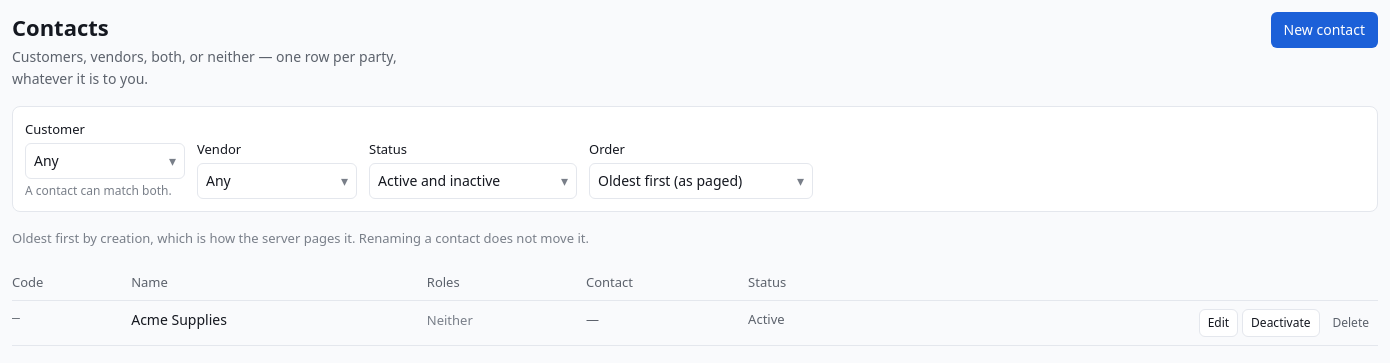
Test: ContactsScreen › deactivates from the list and reactivates the same row
Click the button with aria-label "Deactivate Acme Supplies".
click(1281, 323)  # box x1=1242 y1=309 x2=1320 y2=337
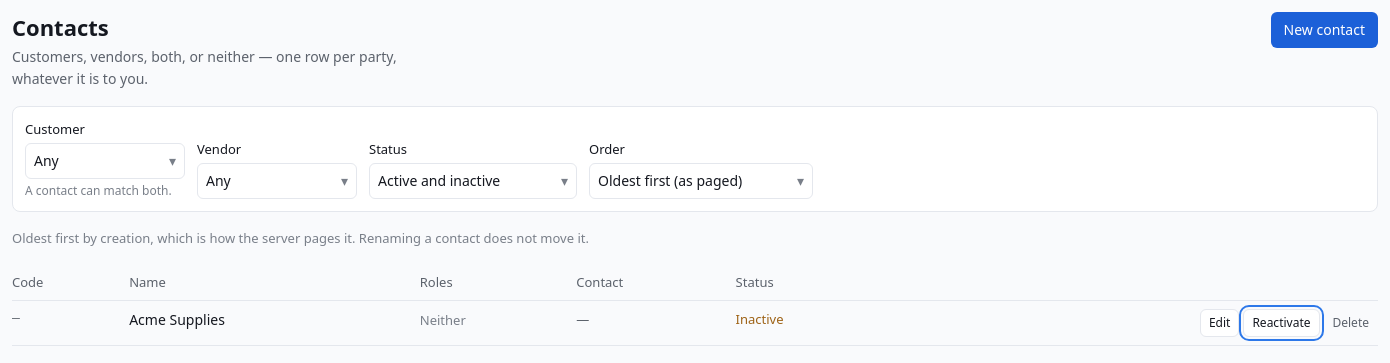
Result: the button with aria-label "Reactivate Acme Supplies" is shown at x1=1243 y1=309 x2=1320 y2=337
